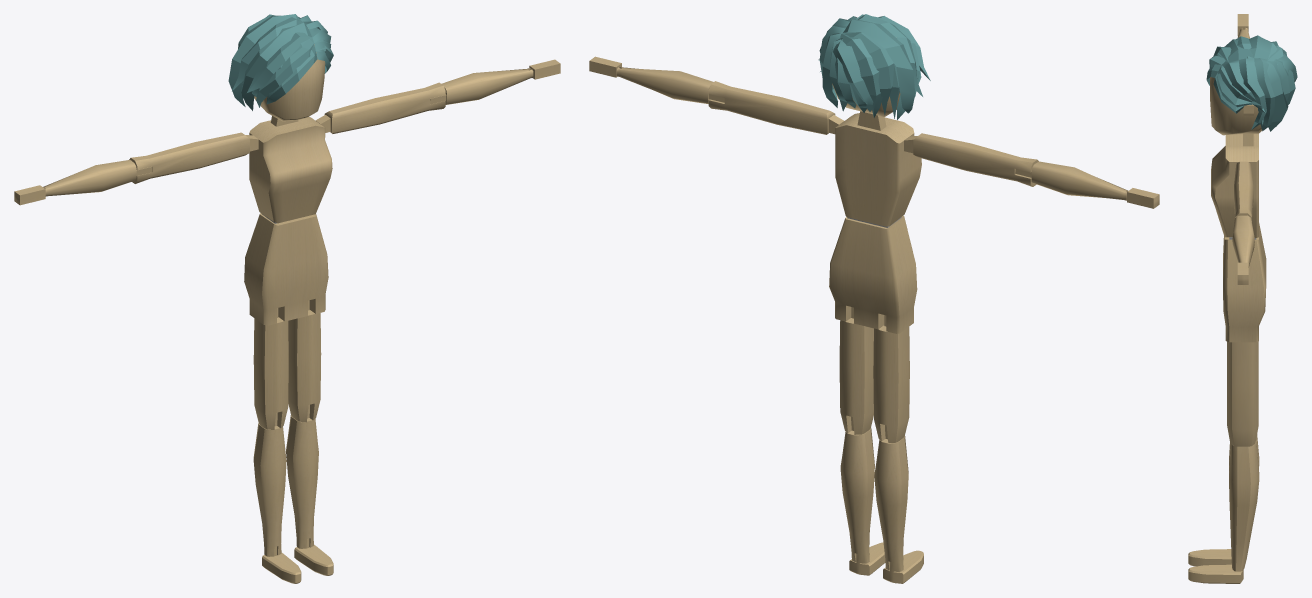
The model's file is TheaterPuzzle_AnaPuppet.fbx.
3 views of the same model, side by side, from view 1: azimuth 30°, elevation 25°; view 2: azimuth 150°, elevation 25°; view 3: azimuth 270°, elevation 25° (orthographic). The views are drawn at different scales.
Parts seen in each view (by area): view 1: pCube2195_polySurface1; view 2: pCube2195_polySurface1; view 3: pCube2195_polySurface1.
Part boxes in pixels (x1=…): pCube2195_polySurface1: x1=14, y1=14, x2=560, y2=583; pCube2195_polySurface1: x1=589, y1=14, x2=1159, y2=583; pCube2195_polySurface1: x1=1188, y1=14, x2=1297, y2=583.
Size of the model in its own units: 2604 by 2476 by 460.
